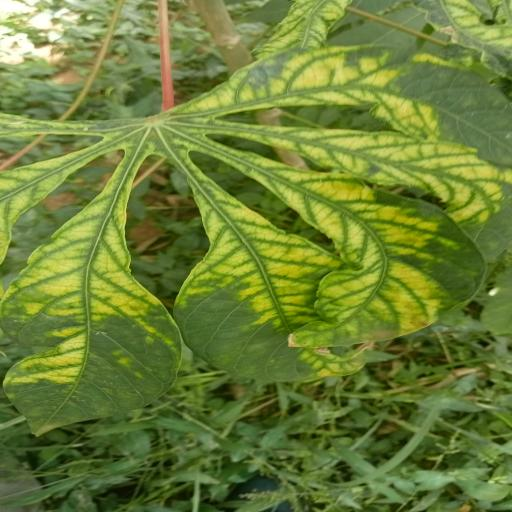Cassava_Mosaic: (0, 48, 512, 432)
